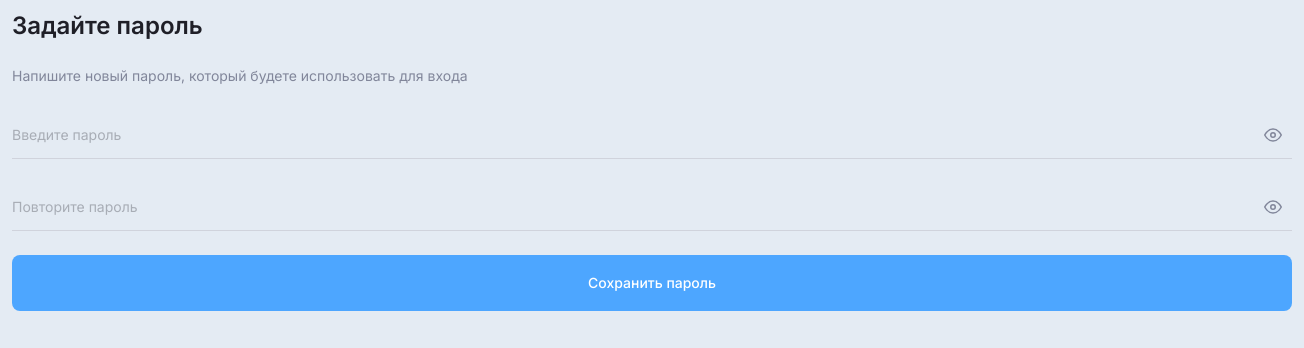
Test: ResetPasswordForm › shows error when passwords do not match
Type "Password1" into the password field with placeholder "Введите пароль" at (652, 135), box [12, 111, 1292, 159]
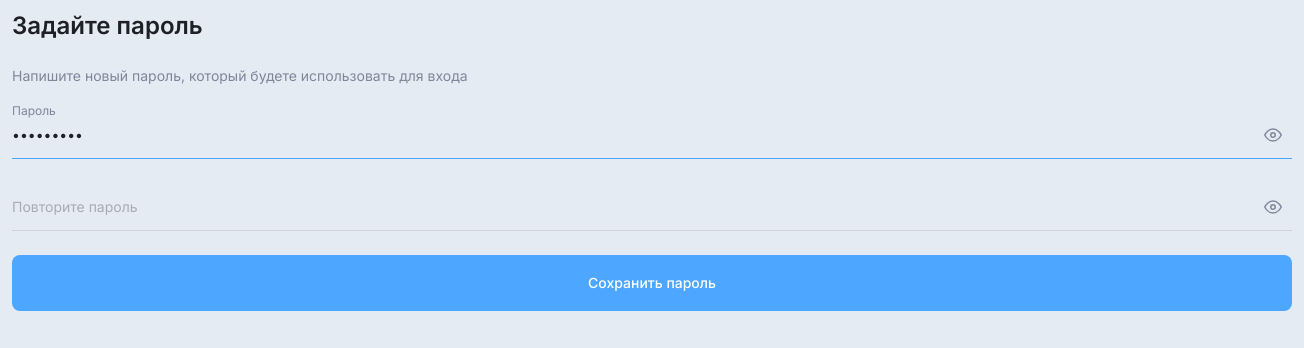
Type "Password2" into the password field with placeholder "Повторите пароль" at (652, 207), box [12, 183, 1292, 231]
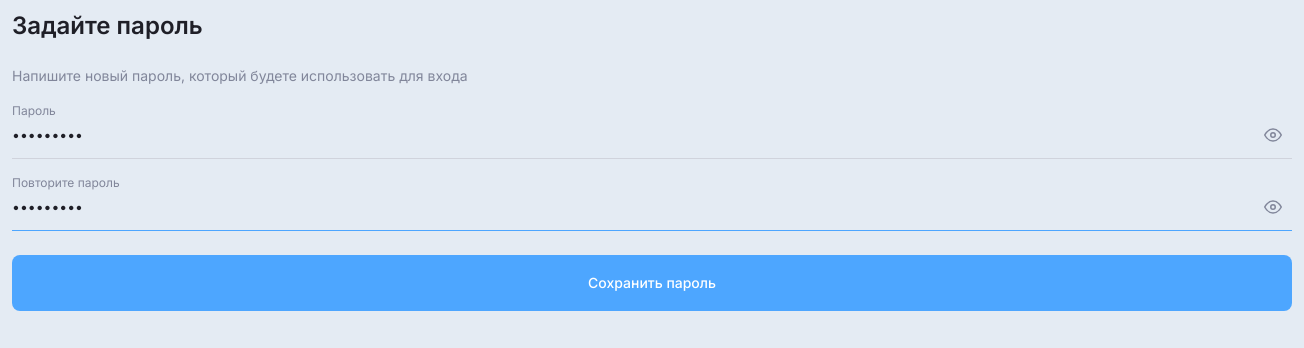
Click the button "Сохранить пароль" at (652, 283), box [12, 255, 1292, 311]
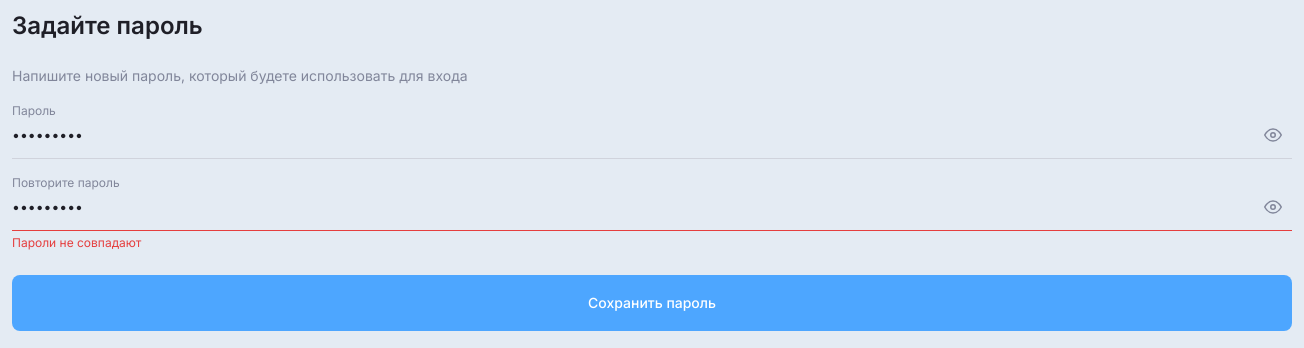
Expected: the text "Пароли не совпадают" is shown, [12, 235, 141, 250]
